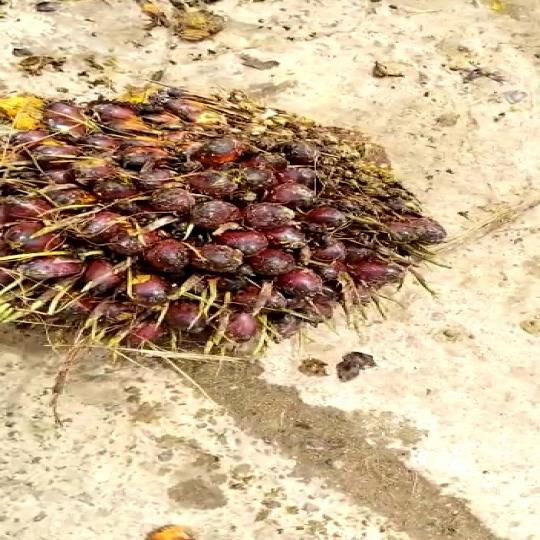kurang masak: (0, 73, 465, 376)
